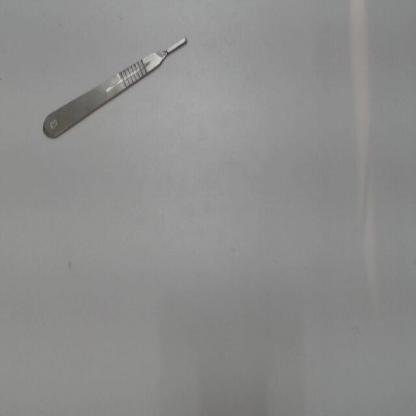No.3 BP Handle: (34, 34, 194, 151)
